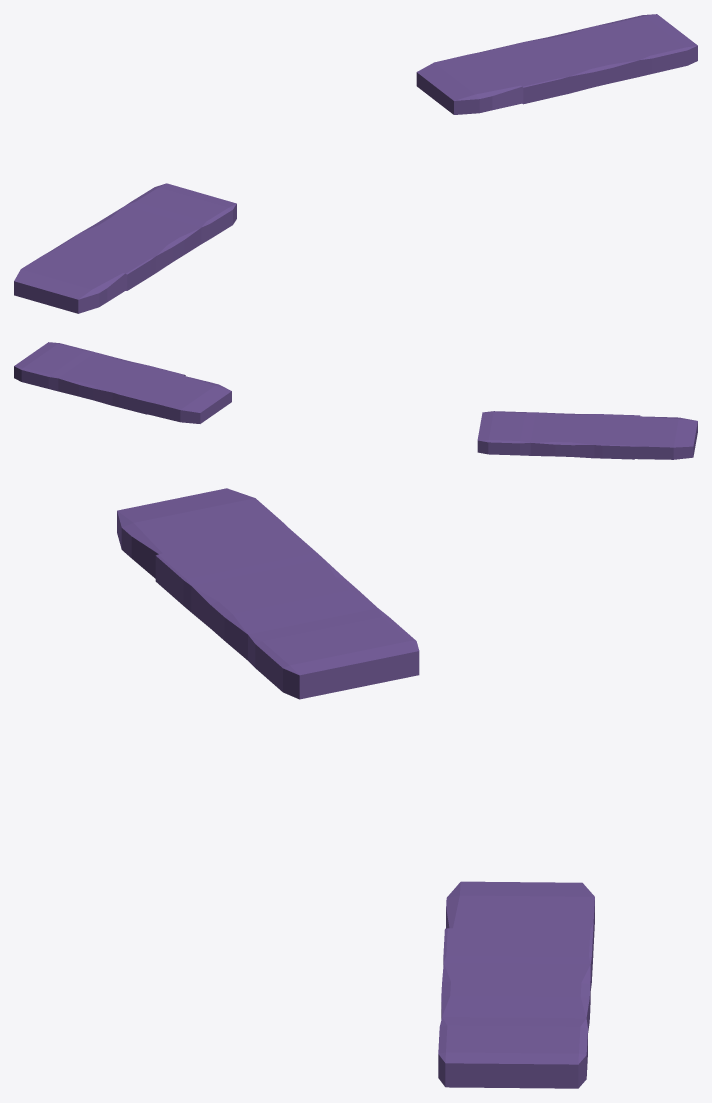
The model's file is sleeping bags.fbx.
The picture shows the model from 3 angles, top to bottom: view 1: azimuth 30°, elevation 25°; view 2: azimuth 150°, elevation 25°; view 3: azimuth 270°, elevation 25°; orthographic projection. The views are drawn at different scales.
Visible parts, largest first — view 1: Cube.001; view 2: Cube.001; view 3: Cube.001.
Boxes of the visible parts, left/top/right/bottom form: Cube.001: left=14, top=14, right=697, bottom=313; Cube.001: left=14, top=342, right=697, bottom=459; Cube.001: left=117, top=488, right=594, bottom=1088.
Bounding box in the file's own units: 1222 × 26.58 × 428.
